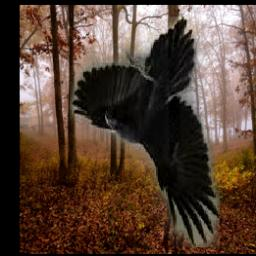Crow: (69, 18, 219, 248)
